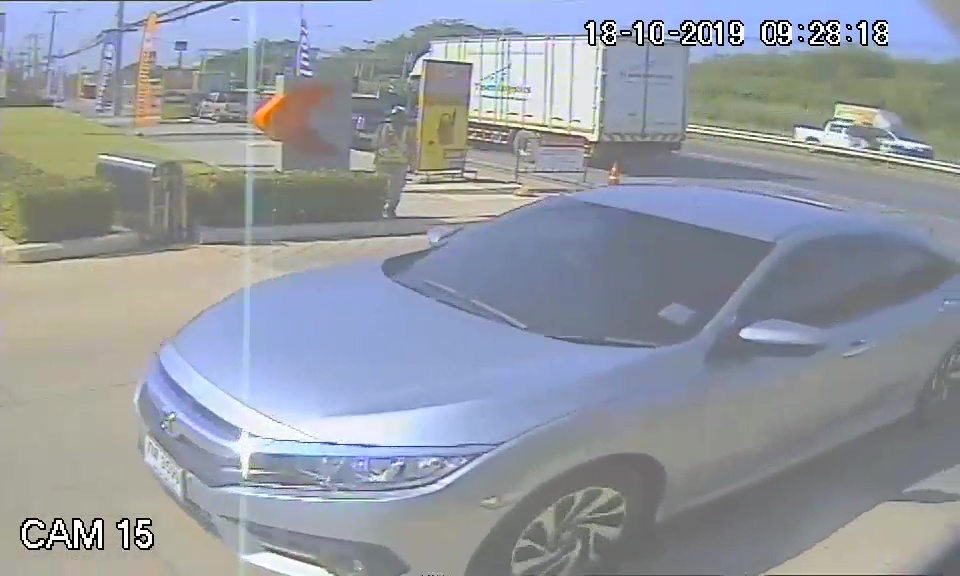sedan: (129, 187, 904, 576)
